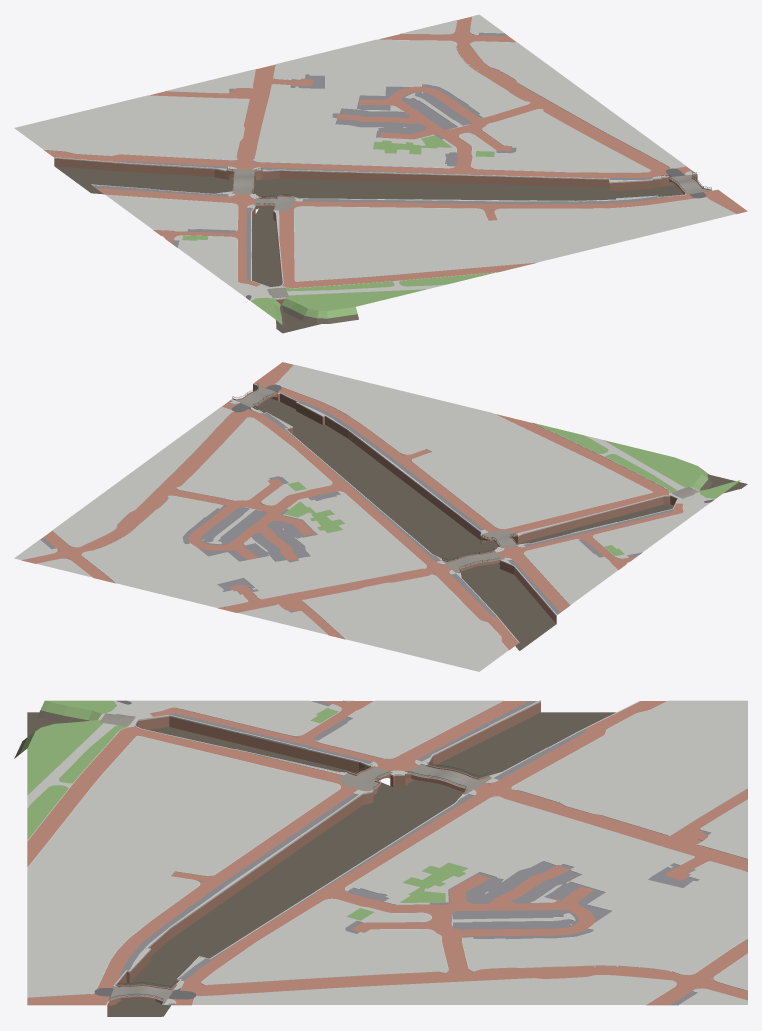
The model's file is ground_9_11.glb.
The picture shows the model from 3 angles, top to bottom: view 1: azimuth 30°, elevation 25°; view 2: azimuth 150°, elevation 25°; view 3: azimuth 270°, elevation 25°; orthographic projection. The views are drawn at different scales.
Parts seen in each view (by area): view 1: ground_9_11; view 2: ground_9_11; view 3: ground_9_11.
Part boxes in pixels (bbox=[...]): ground_9_11: bbox=[14, 14, 747, 333]; ground_9_11: bbox=[14, 362, 747, 671]; ground_9_11: bbox=[14, 700, 747, 1016].
Bounding box in the file's own units: 200 × 5.2 × 204.
